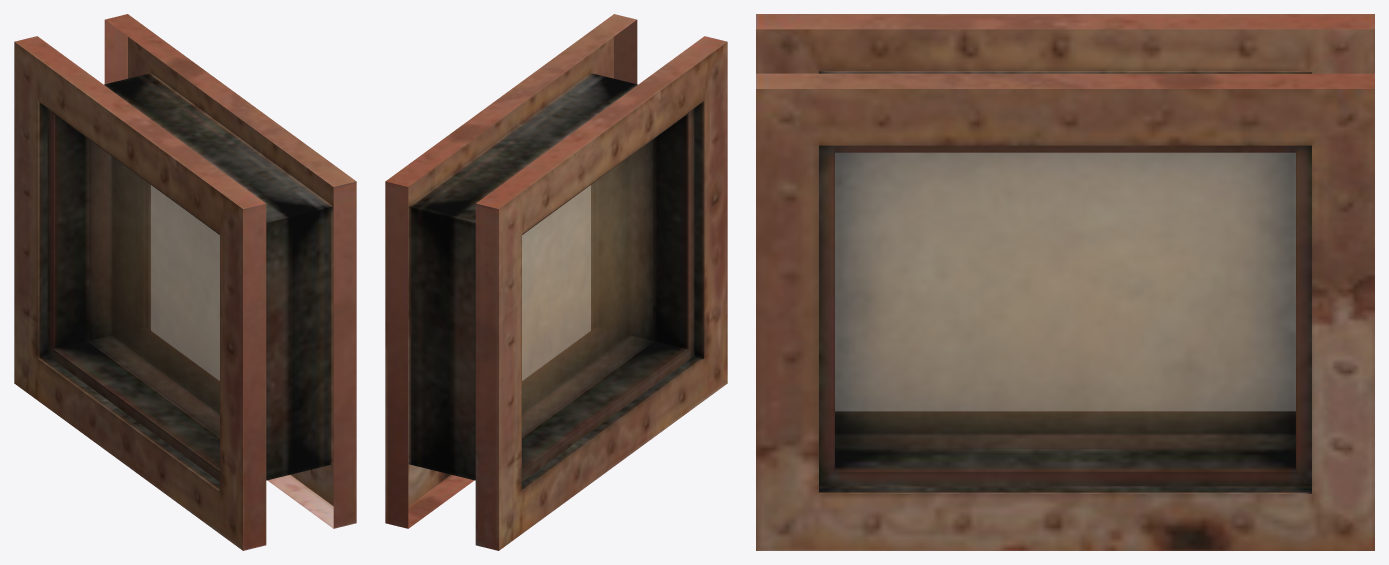
File: Window_TortureRoom.FBX
3 views of the same model, side by side, from view 1: azimuth 30°, elevation 25°; view 2: azimuth 150°, elevation 25°; view 3: azimuth 270°, elevation 25° (orthographic). The views are drawn at different scales.
Parts seen in each view (by area): view 1: Window_TortureRoom; view 2: Window_TortureRoom; view 3: Window_TortureRoom.
Boxes of the visible parts, x1,y1,x2,y2 form: Window_TortureRoom: [14, 14, 356, 550]; Window_TortureRoom: [385, 14, 727, 550]; Window_TortureRoom: [756, 14, 1374, 550].
Size of the model in its own units: 25.25 by 72.65 by 88.16.
